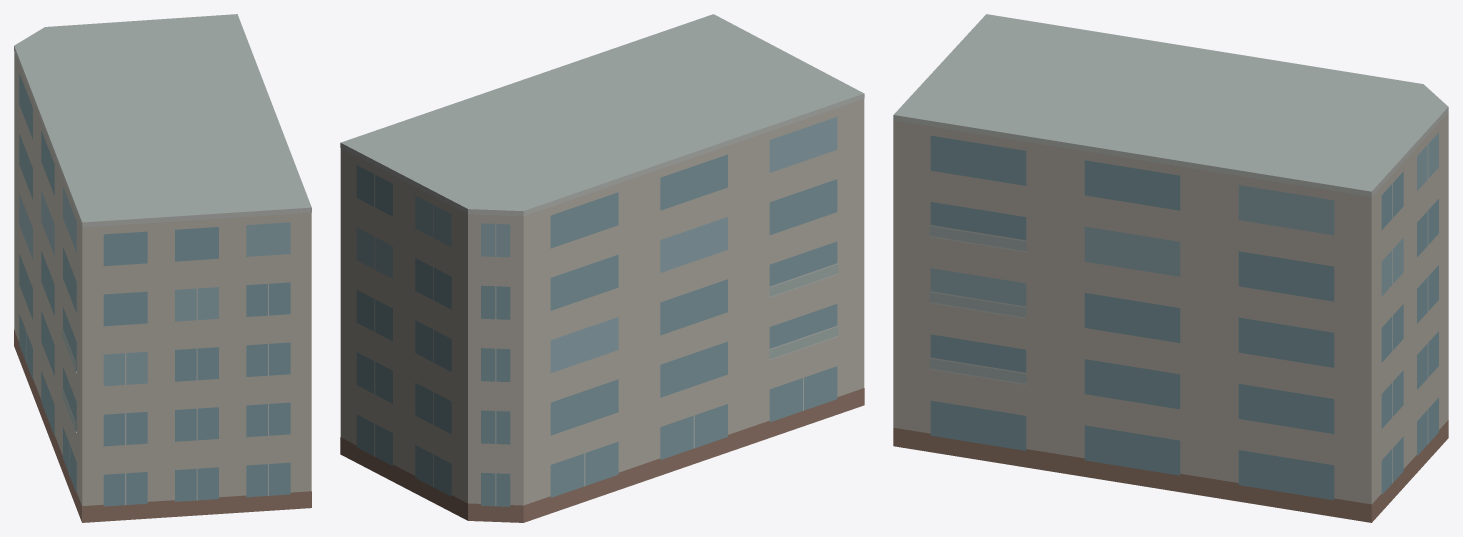
File: survey-upis-32528195.glb
3 renders of one model, left to right at view 1: azimuth 30°, elevation 25°; view 2: azimuth 150°, elevation 25°; view 3: azimuth 270°, elevation 25°, orthographic. The views are drawn at different scales.
Visible parts, largest first — view 1: survey-upis-32528195.tmp; view 2: survey-upis-32528195.tmp; view 3: survey-upis-32528195.tmp.
Boxes of the visible parts, bbox=[...] form: survey-upis-32528195.tmp: bbox=[14, 14, 311, 522]; survey-upis-32528195.tmp: bbox=[340, 14, 864, 522]; survey-upis-32528195.tmp: bbox=[893, 14, 1448, 522].
Bounding box in the file's own units: 16.91 × 14.7 × 22.34.
